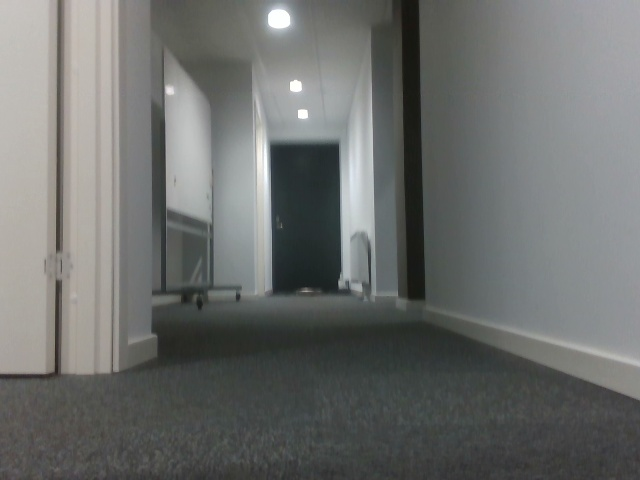alfa: (241, 349, 295, 407)
